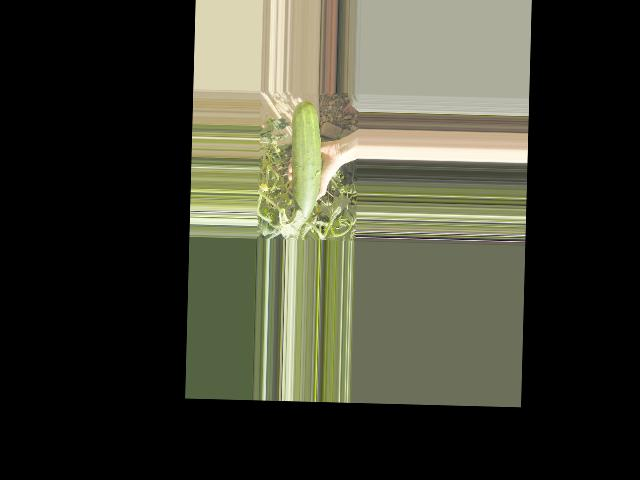cucumber: (289, 100, 323, 223)
